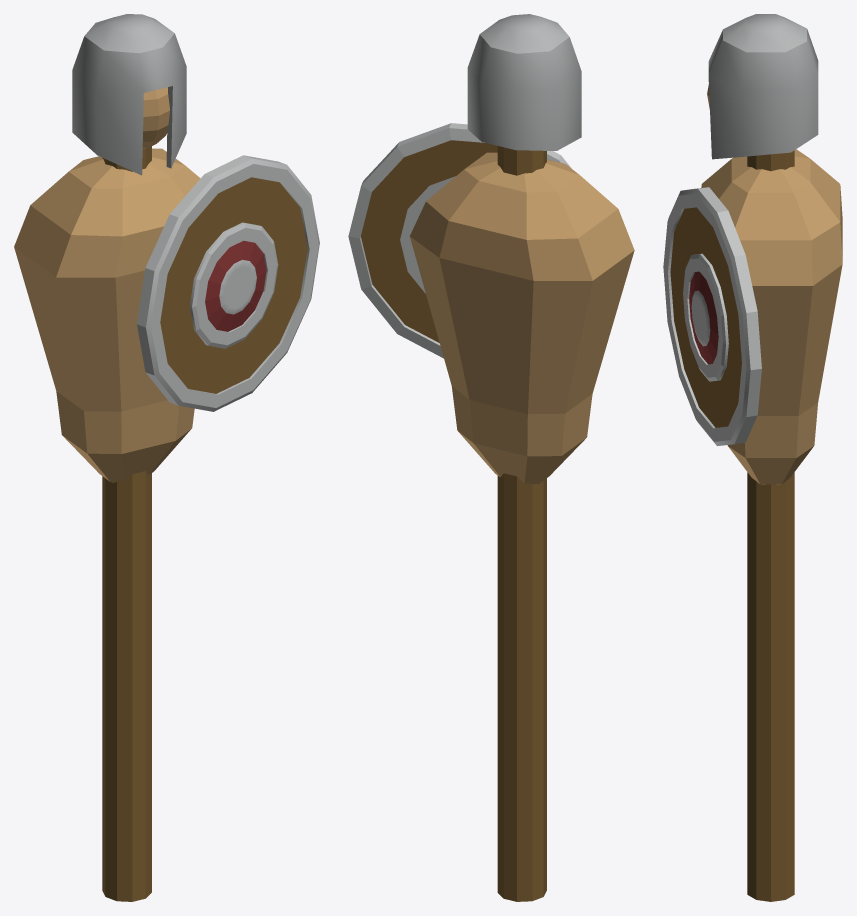
File: Dummy.fbx
The picture shows the model from 3 angles, left to right: view 1: azimuth 30°, elevation 25°; view 2: azimuth 150°, elevation 25°; view 3: azimuth 270°, elevation 25°; orthographic projection.
Parts seen in each view (by area): view 1: pSphere3; view 2: pSphere3; view 3: pSphere3.
Boxes of the visible parts, left/top/right/bottom form: pSphere3: left=14, top=14, right=319, bottom=901; pSphere3: left=348, top=14, right=634, bottom=901; pSphere3: left=663, top=14, right=842, bottom=901.
Bounding box in the file's own units: 63.87 × 194 × 36.19.
